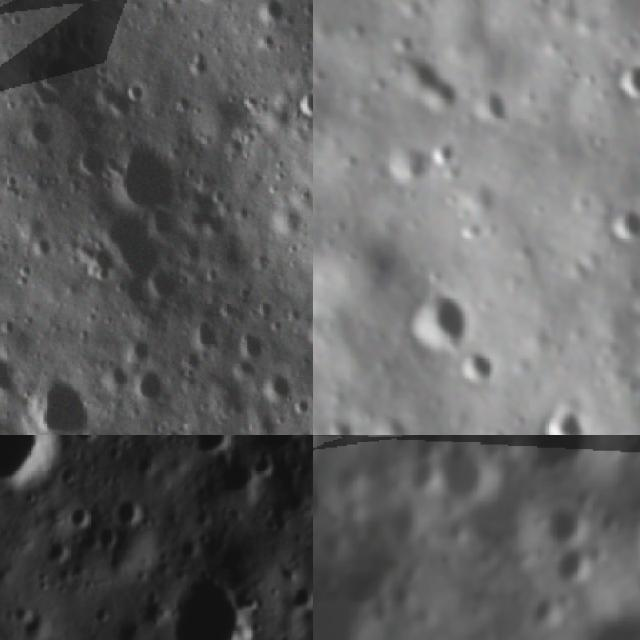crater: (86, 200, 180, 307), (112, 129, 183, 215), (164, 570, 247, 640), (395, 53, 469, 125), (402, 286, 482, 352), (37, 364, 99, 435), (203, 438, 266, 500), (23, 44, 81, 109), (0, 435, 66, 485), (464, 81, 510, 134), (383, 142, 430, 188), (254, 365, 300, 411), (128, 367, 174, 411), (448, 345, 497, 386), (104, 486, 154, 526), (72, 137, 112, 185), (604, 201, 640, 252), (551, 538, 587, 588), (188, 309, 225, 356), (16, 117, 59, 156), (538, 404, 592, 435), (238, 330, 279, 369), (610, 58, 640, 104), (422, 134, 459, 171), (254, 0, 291, 35), (539, 507, 579, 539), (57, 499, 92, 530), (288, 84, 313, 125), (38, 536, 71, 566), (192, 435, 238, 455), (405, 457, 439, 484), (0, 347, 16, 404), (368, 416, 416, 435), (249, 435, 304, 451), (322, 416, 362, 435), (189, 0, 234, 13), (628, 282, 640, 325), (65, 435, 109, 445), (0, 203, 10, 246)
